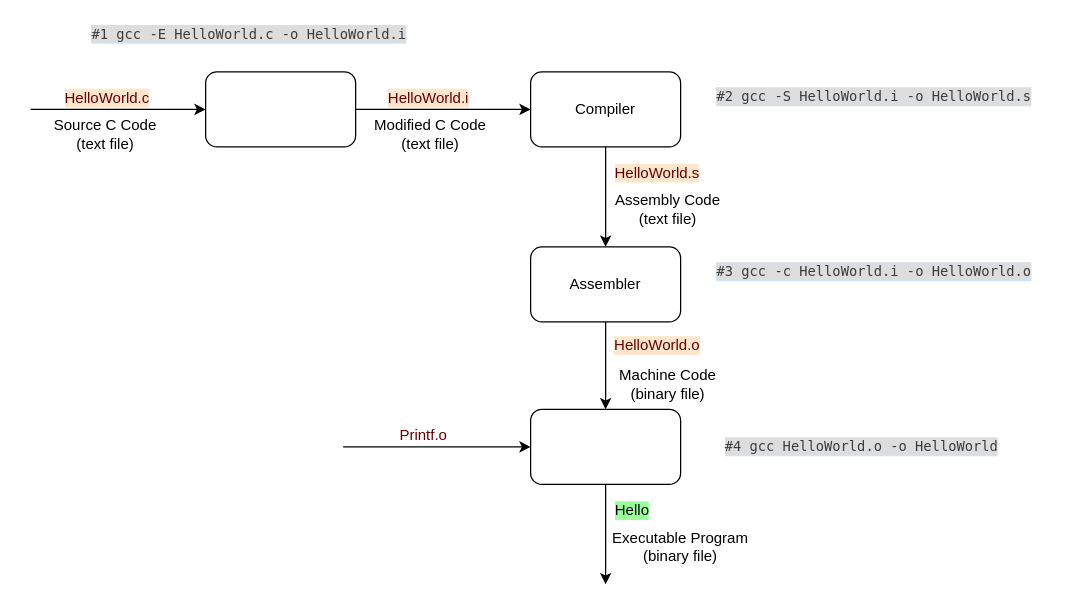
This 1065x616 diagram has some shape labels left out. Here are the shapes that lost their labels. From the top down, the centre of each, then its label:
pixel 280 109: Preprocessor
pixel 605 446: Linker
